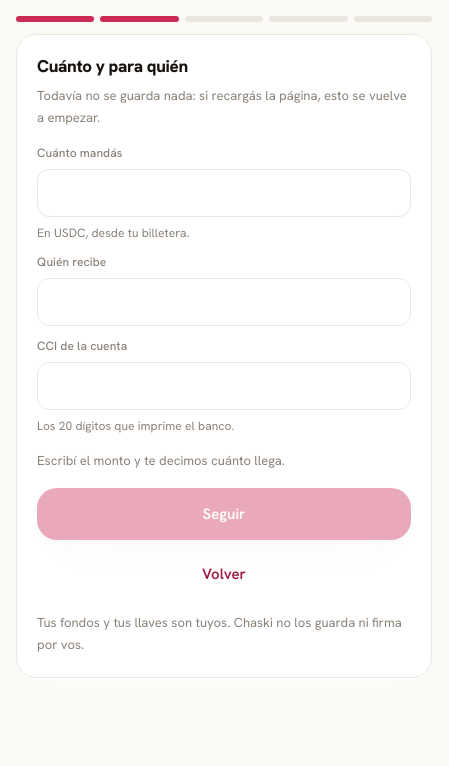
Test: WKH-374/W1.2 · el recorrido nuevo, montado y recorrido › T-374-W1-17: una sola cotización por lo tipeado, ninguna por debajo del mínimo, y el error no queda pegado
Type "4" into the field labelled "Cuánto mandás" at (224, 194), box [37,170,411,218]
Wait 2000 ms
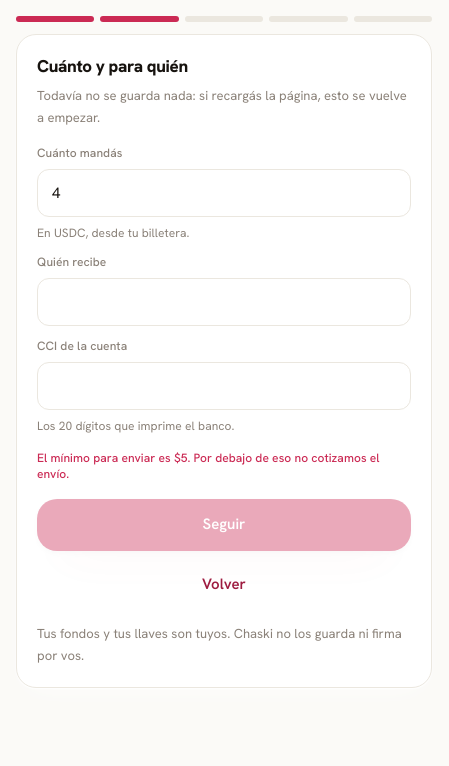
# ── (B) UNA SOLA COTIZACIÓN POR LO TIPEADO, Y ES LA DEL MONTO FINAL ───────────────────────
Replace the text in the field labelled "Cuánto mandás" with "9" at (224, 194), box [37,170,411,218]
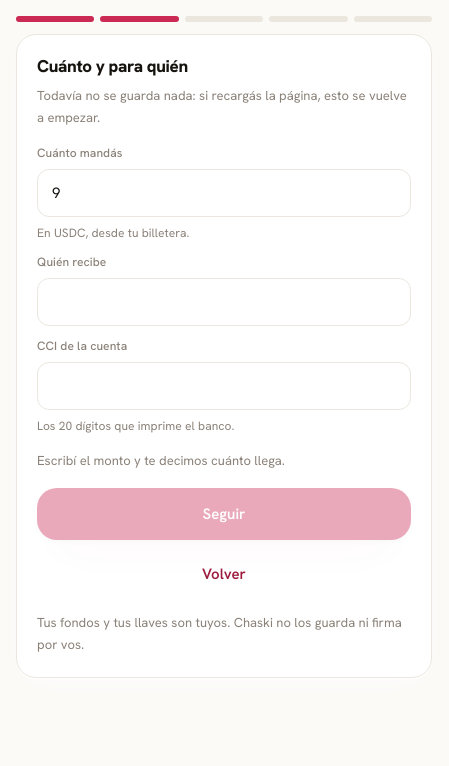
Replace the text in the field labelled "Cuánto mandás" with "95" at (224, 194), box [37,170,411,218]
Wait 2000 ms
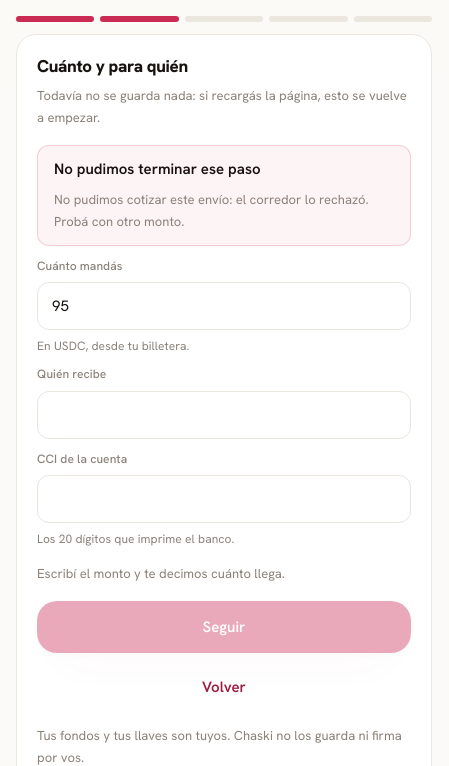
Expected: the text "No pudimos terminar ese paso" is shown, [54,159,261,179]
Replace the text in the field labelled "Cuánto mandás" with "96" at (224, 306), box [37,282,411,330]
Wait 2000 ms
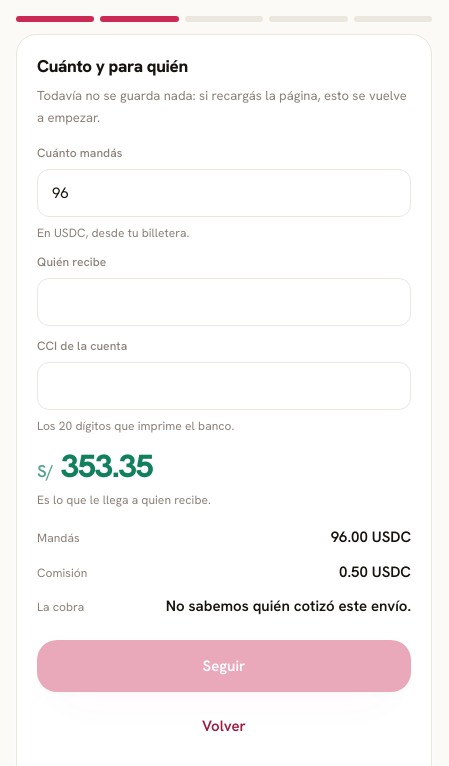
Expected: the text "Es lo que le llega a quien recibe." is shown, [37,492,211,508]
Expected: the text "No pudimos terminar ese paso" is gone
